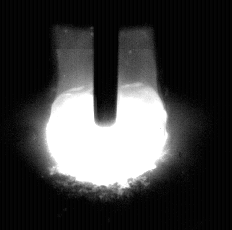arame: (96, 0, 117, 126)
poca: (46, 0, 170, 230)
